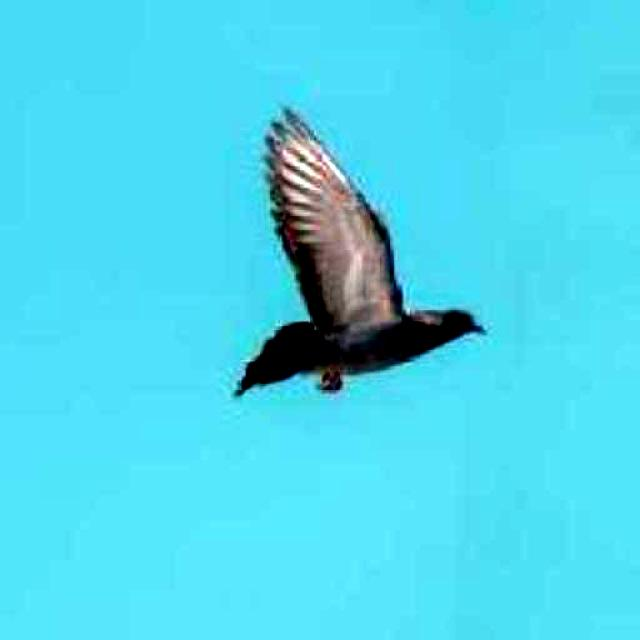airplane: (234, 104, 490, 400)
